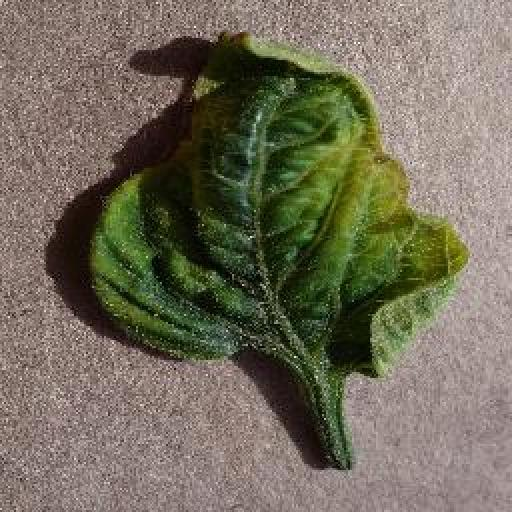disease_tomato: (90, 32, 471, 378)
